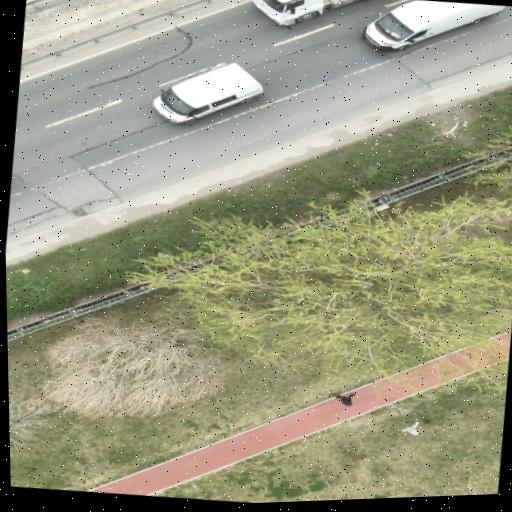car: (364, 0, 505, 50), (153, 63, 262, 124)
person: (337, 393, 354, 406)
truck: (252, 0, 365, 26)
